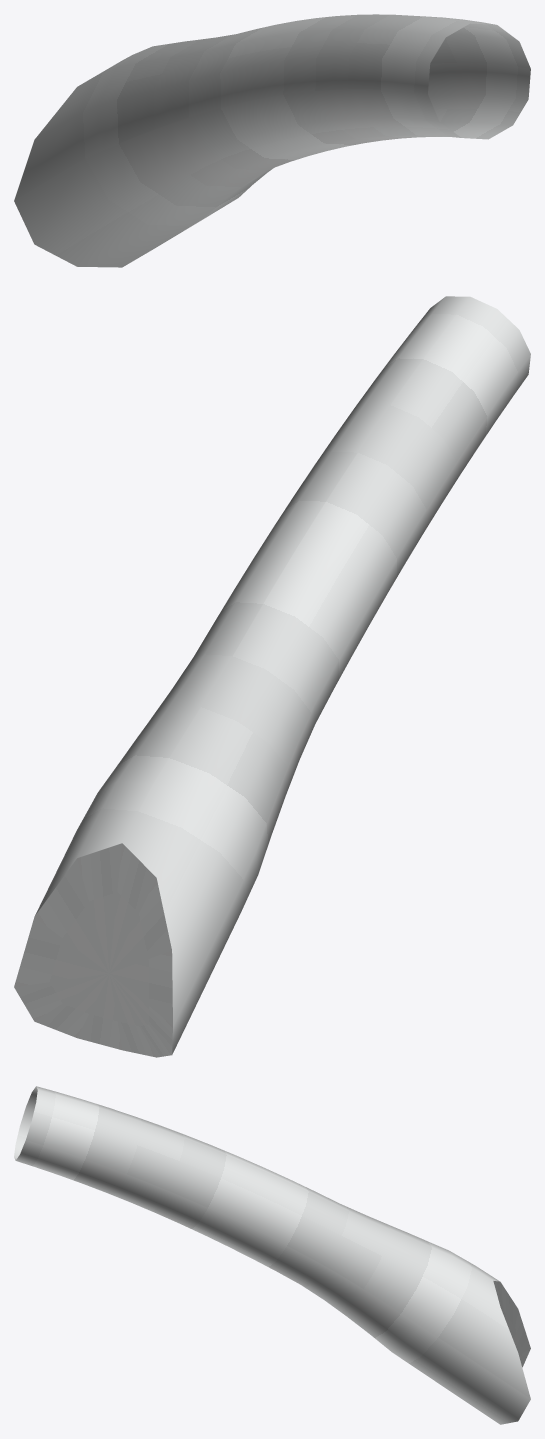
The model's file is luminairearm_caltrans6ftdouble_c3_pedestal.obj.
The picture shows the model from 3 angles, top to bottom: view 1: azimuth 30°, elevation 25°; view 2: azimuth 150°, elevation 25°; view 3: azimuth 270°, elevation 25°; orthographic projection. The views are drawn at different scales.
Visible parts, largest first — view 1: luminairearm_caltrans6ftdouble_c3_pedestal; view 2: luminairearm_caltrans6ftdouble_c3_pedestal; view 3: luminairearm_caltrans6ftdouble_c3_pedestal.
Boxes of the visible parts, bbox=[...] form: luminairearm_caltrans6ftdouble_c3_pedestal: bbox=[14, 14, 530, 267]; luminairearm_caltrans6ftdouble_c3_pedestal: bbox=[14, 296, 530, 1057]; luminairearm_caltrans6ftdouble_c3_pedestal: bbox=[14, 1086, 530, 1424].
Size of the model in its own units: 0.3375 by 1.01 by 1.45.
